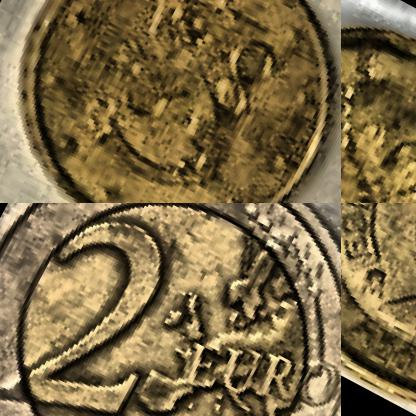coin: (0, 203, 340, 415), (0, 0, 340, 202), (341, 203, 415, 415), (341, 0, 415, 202)
